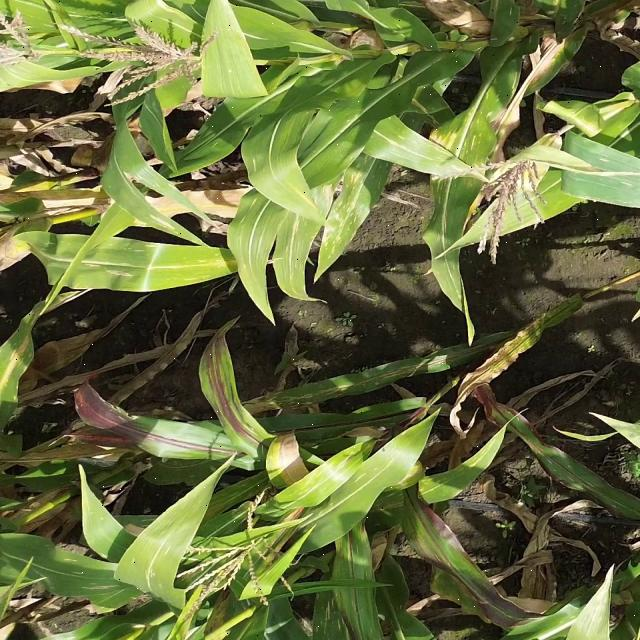gray-leaf-spot: (113, 198, 263, 292), (50, 529, 177, 614), (298, 556, 421, 640)
northern-leaf-blight: (465, 380, 640, 527)
southern-leaf-blight: (393, 62, 528, 257), (247, 324, 490, 428), (281, 137, 396, 277)
